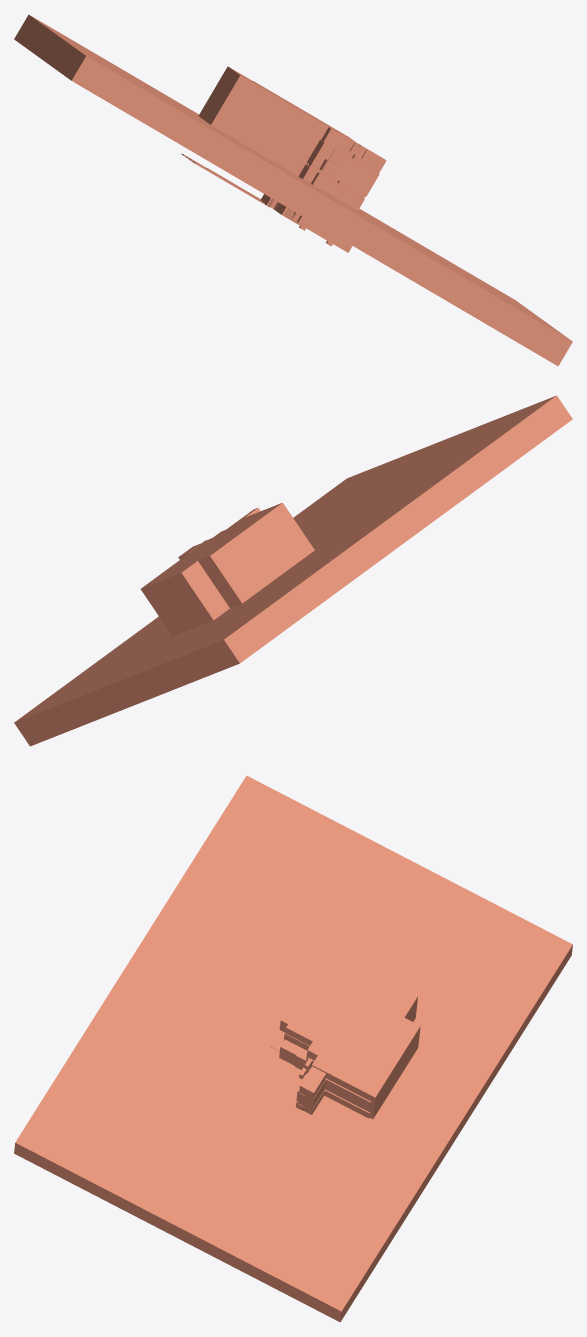
3 views of the same model, one above another, from view 1: azimuth 30°, elevation 25°; view 2: azimuth 150°, elevation 25°; view 3: azimuth 270°, elevation 25° (orthographic). The views are drawn at different scales.
Visible parts, largest first — view 1: mesh; view 2: mesh; view 3: mesh.
Part boxes in pixels (left/top/right/bottom): mesh: left=14, top=14, right=572, bottom=366; mesh: left=14, top=395, right=572, bottom=746; mesh: left=14, top=775, right=572, bottom=1322.
Bounding box in the file's own units: 60.11 × 48.67 × 69.44.
